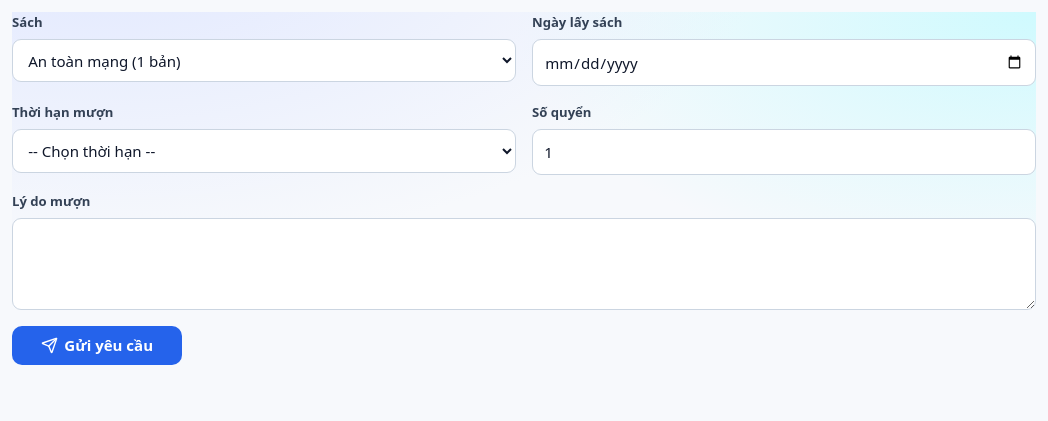
Scenario: LoanForm › xóa trắng form sau khi gửi thành công dù có defaultBookId
Expected: the dropdown labelled "Sách" shows "An toàn mạng (1 bản)", [12,39,516,82]
Click the button "Gửi yêu cầu": (97,345) [12,326,182,365]
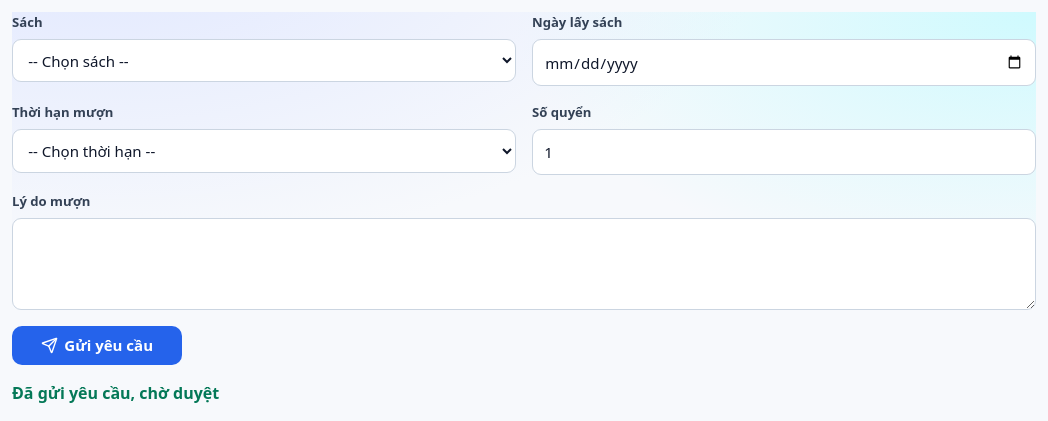
Expected: the text box labelled "Lý do mượn" is empty, [12,218,1036,310]
Expected: the text "Đã gửi yêu cầu, chờ duyệt" is shown, [12,382,219,404]
Expected: the dropdown labelled "Sách" shows "-- Chọn sách --", [12,39,516,82]
